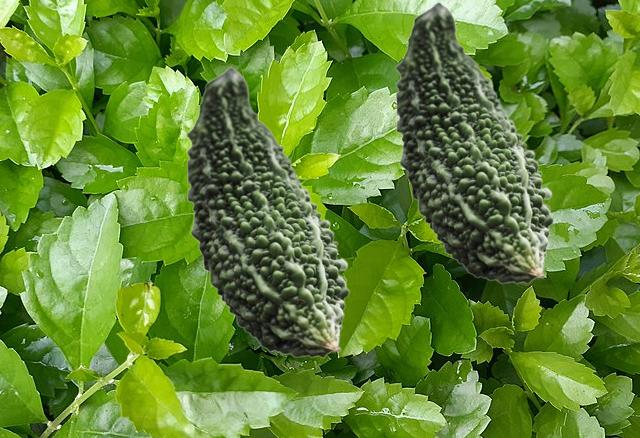ampalaya: (186, 66, 349, 357), (395, 1, 553, 283)
